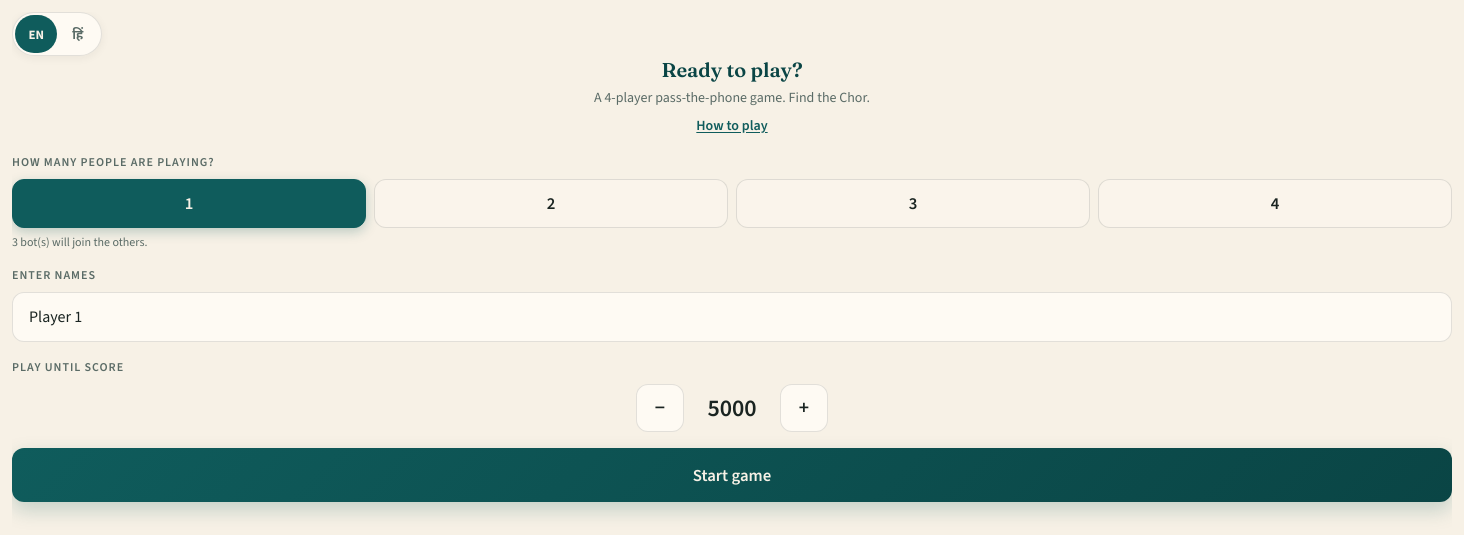
SetupScreen › switches CTA to Hindi when language toggle is used
The image size is (1464, 535).
Expected: the button "Start game" is shown, [12,448,1452,502]
Click the button "हिं": {"x": 78, "y": 34} [57,15,99,53]
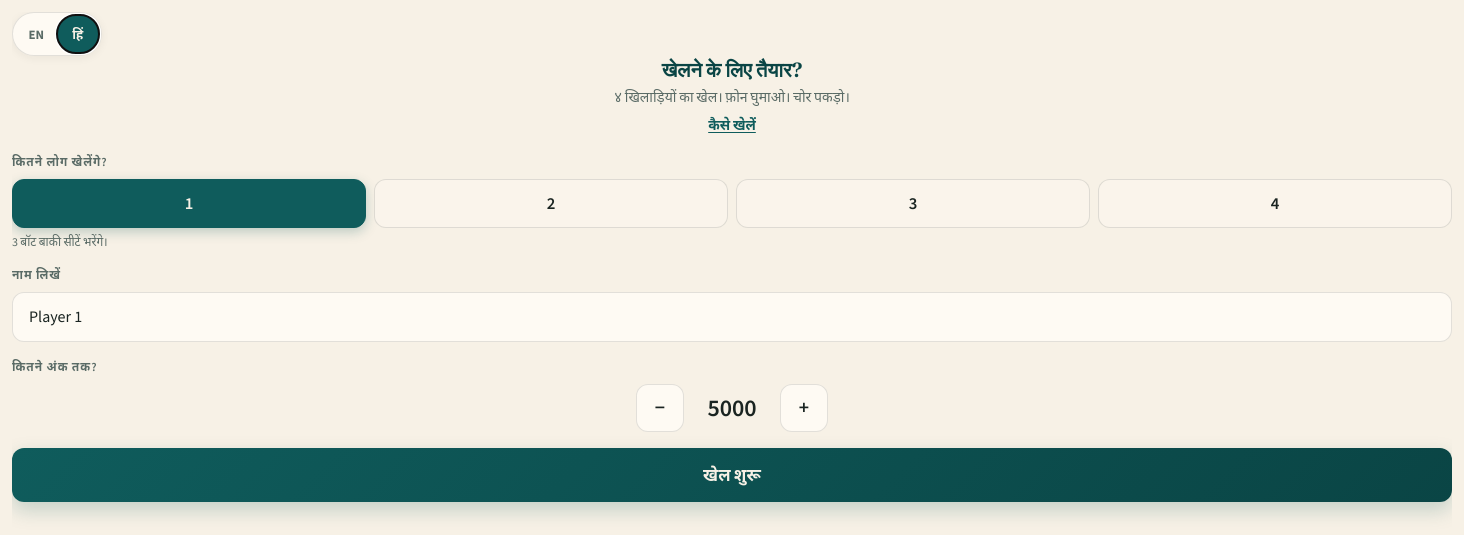
Result: the button "खेल शुरू" is shown at [12,448,1452,502]
